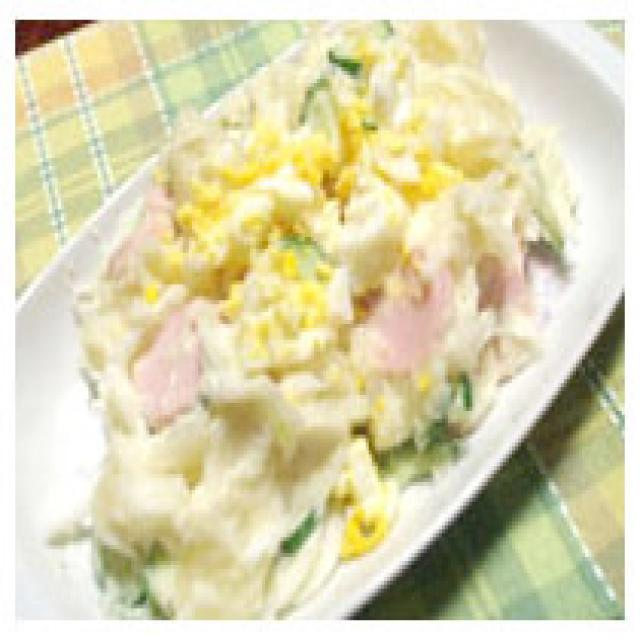蔬菜料理: (9, 8, 628, 640)
